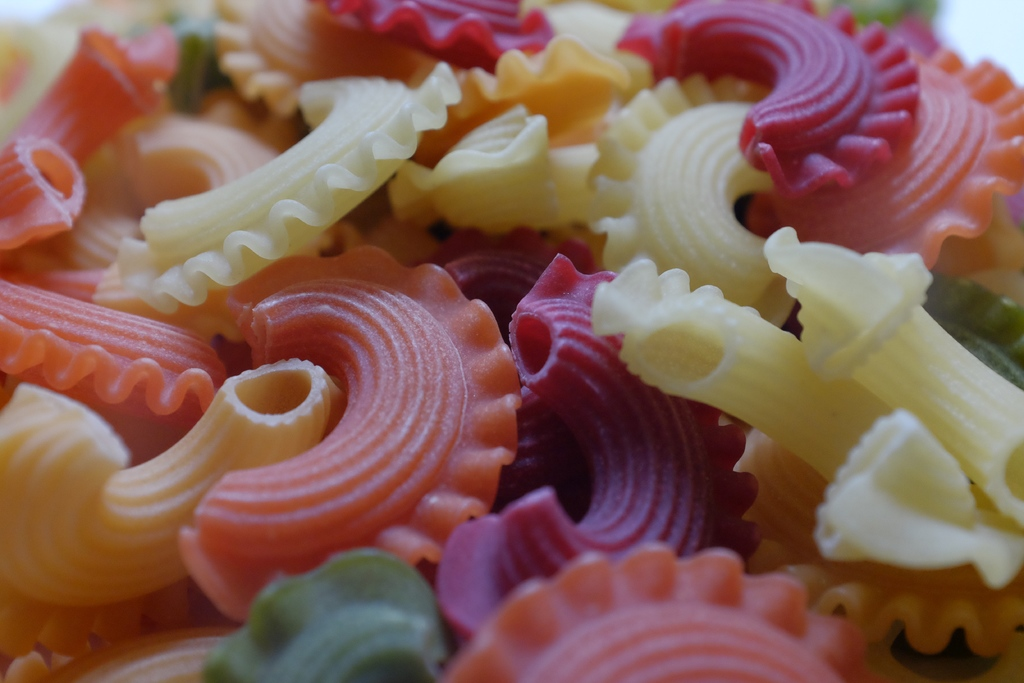pasta: (0, 6, 908, 683)
